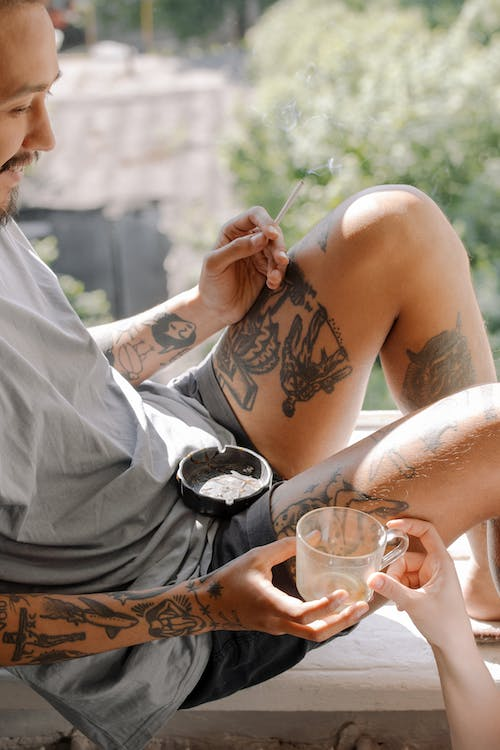cigarette: (269, 175, 307, 226)
